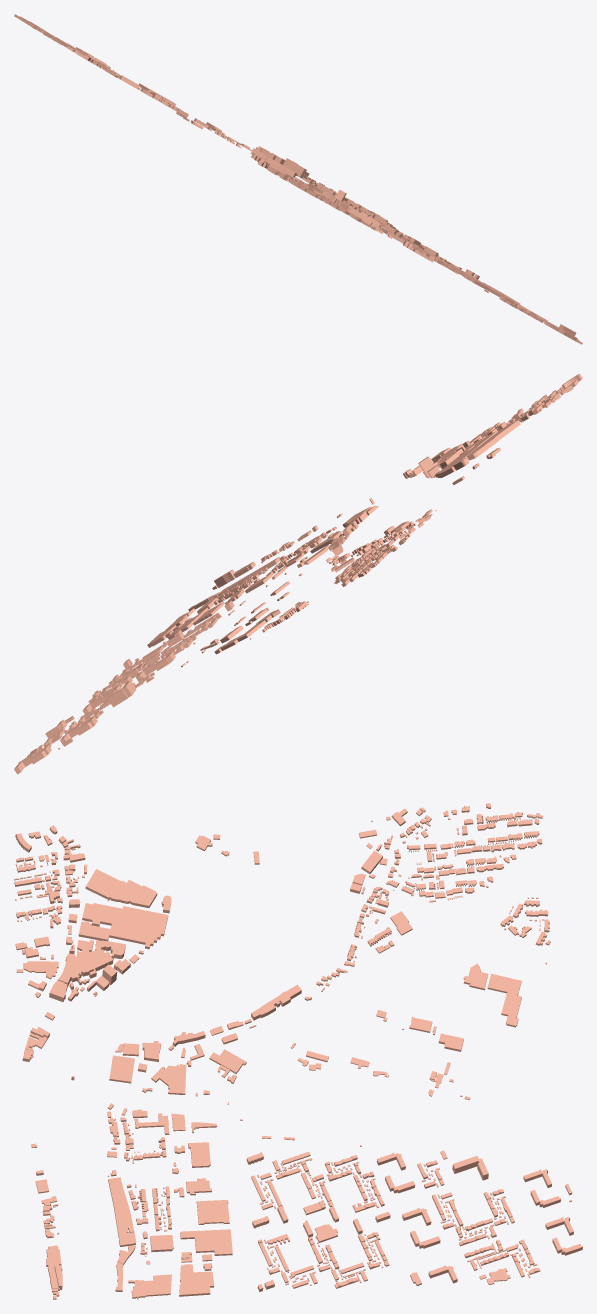
3 renders of one model, top to bottom at view 1: azimuth 30°, elevation 25°; view 2: azimuth 150°, elevation 25°; view 3: azimuth 270°, elevation 25°, orthographic. The views are drawn at different scales.
Size of the model in its own units: 1051 by 749 by 1279.
